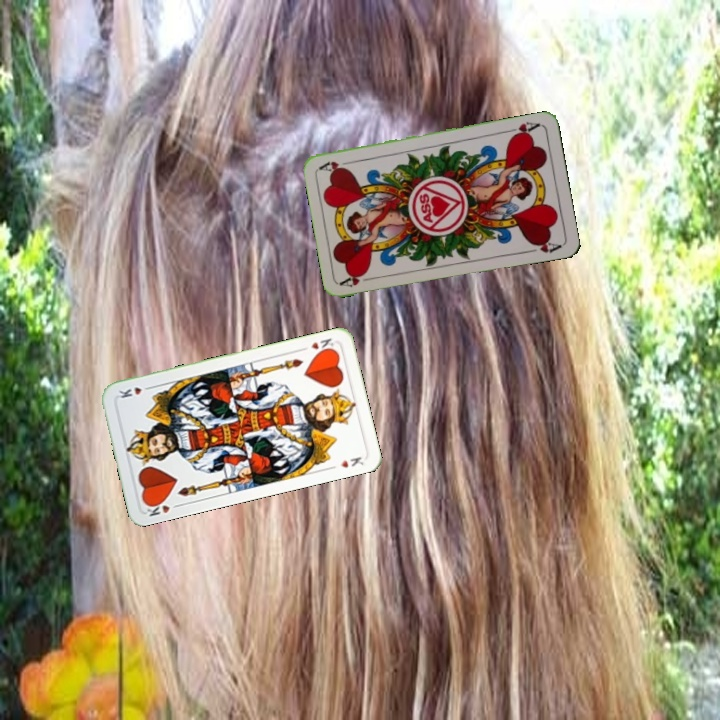HA: (337, 268, 378, 290), (502, 118, 542, 140)
HK: (142, 496, 183, 519), (307, 334, 336, 356)
